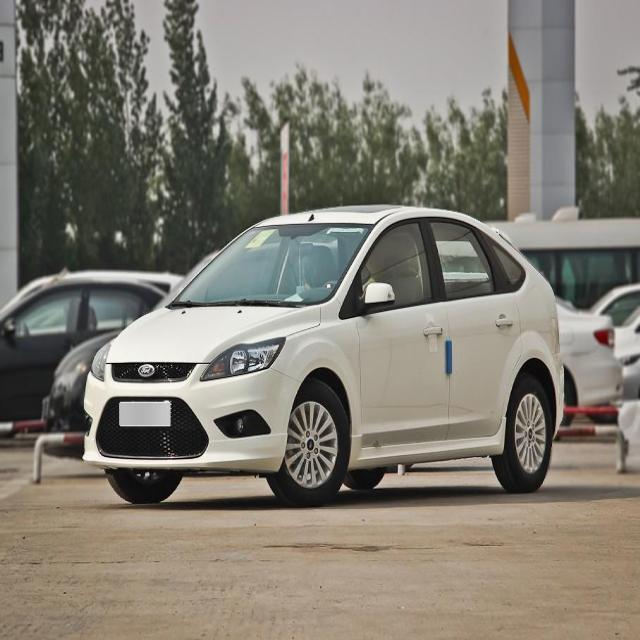door: (422, 214, 530, 446)
front_bumper: (81, 375, 305, 469)
front_glass: (170, 223, 366, 306)
front_left_side_door: (356, 212, 450, 448)
front_left_side_light: (199, 336, 287, 382)
front_left_side_mirror: (358, 281, 396, 312)
front_right_side_light: (89, 336, 115, 384)
wheel: (270, 380, 352, 506), (492, 381, 553, 492), (106, 467, 186, 504)
